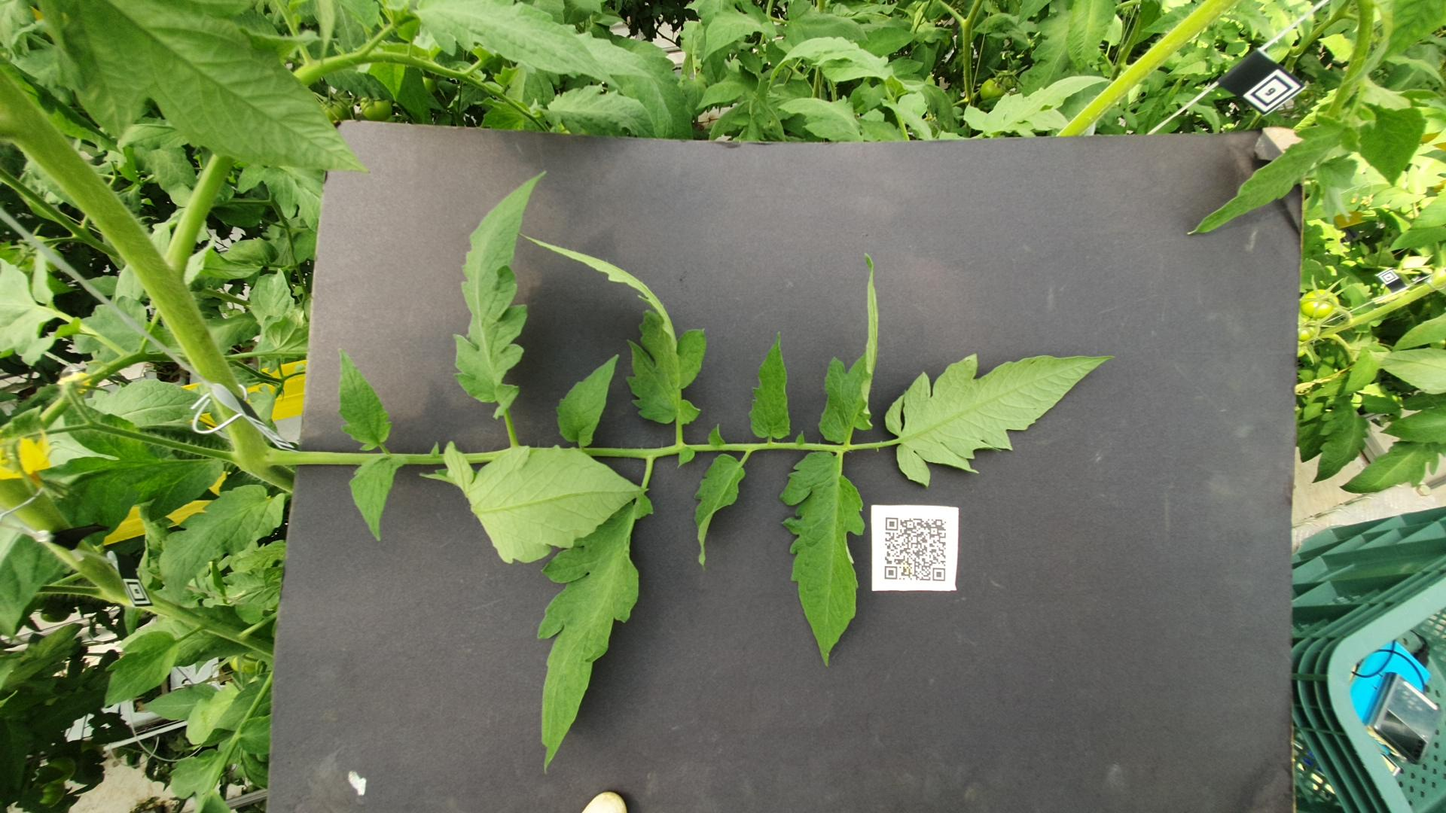Healthy: (1141, 30, 1446, 208), (692, 292, 1071, 398), (581, 497, 842, 625), (69, 302, 567, 367), (442, 249, 663, 364), (701, 253, 1144, 308), (1026, 666, 1242, 763), (1278, 232, 1446, 352), (262, 439, 644, 487), (375, 89, 586, 161), (659, 459, 1000, 493), (426, 389, 639, 419), (1199, 304, 1296, 368), (653, 311, 816, 349), (565, 751, 662, 813), (644, 189, 830, 221), (1112, 762, 1257, 803), (188, 57, 324, 100), (690, 54, 774, 119), (586, 737, 742, 771), (666, 420, 857, 445), (483, 196, 634, 227), (1194, 437, 1277, 485), (1364, 440, 1446, 488), (1337, 394, 1428, 437), (743, 776, 830, 813), (654, 775, 729, 813), (1251, 390, 1301, 420)
